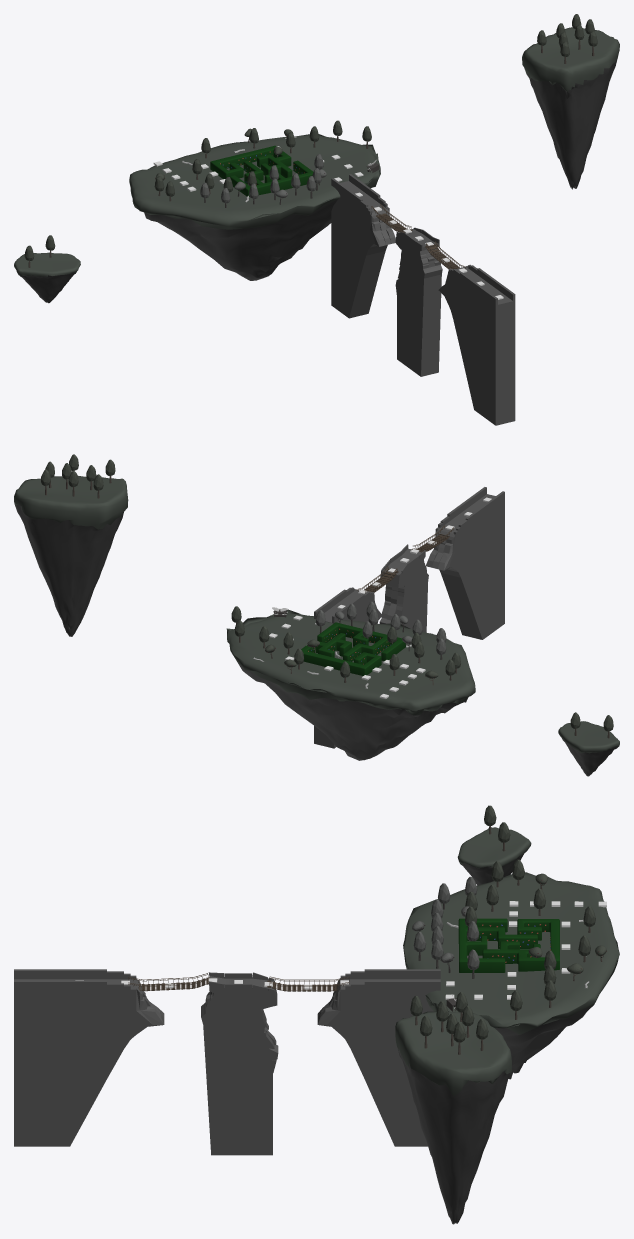
Rendered from BoardSect2.fbx.
3 renders of one model, top to bottom at view 1: azimuth 30°, elevation 25°; view 2: azimuth 150°, elevation 25°; view 3: azimuth 270°, elevation 25°, orthographic. The views are drawn at different scales.
Visible parts, largest first — view 1: pasted__pPlane3, pCube70, pCube69, Island3, pCube71, pasted__pasted__Island3, pasted__pasted__pasted__pPlane6, Cube, pasted__pasted__pasted__pPlane2, pasted__pasted__Island2; view 2: pasted__pPlane3, pCube70, pasted__pasted__Island3, Island3, pasted__pasted__pasted__pPlane6, Cube, pCube71, pCube69, pasted__pasted__pasted__pPlane2, pasted__pasted__Island2; view 3: pCube70, pasted__pPlane3, pCube71, pCube69, pasted__pasted__Island3, pasted__pasted__pasted__pPlane6, Cube, pasted__pasted__pasted__pPlane2, Island3, pasted__pasted__Island2.
Part boxes in pixels (<box>): pasted__pPlane3: <box>129,134,380,229</box>; pCube70: <box>438,264,515,425</box>; pCube69: <box>331,174,395,318</box>; Island3: <box>144,200,337,280</box>; pCube71: <box>395,227,442,376</box>; pasted__pasted__Island3: <box>526,57,617,189</box>; pasted__pasted__pasted__pPlane6: <box>522,27,619,91</box>; Cube: <box>210,145,313,197</box>; pasted__pasted__pasted__pPlane2: <box>14,252,80,276</box>; pasted__pasted__Island2: <box>20,273,75,303</box>; pasted__pPlane3: <box>226,609,475,715</box>; pCube70: <box>426,487,504,639</box>; pasted__pasted__Island3: <box>15,505,123,636</box>; Island3: <box>237,661,467,760</box>; pasted__pasted__pasted__pPlane6: <box>14,476,128,529</box>; Cube: <box>301,622,405,675</box>; pCube71: <box>379,544,428,632</box>; pCube69: <box>314,587,382,748</box>; pasted__pasted__pasted__pPlane2: <box>558,721,619,753</box>; pasted__pasted__Island2: <box>560,736,617,776</box>; pCube70: <box>14,969,164,1146</box>; pasted__pPlane3: <box>403,872,619,1034</box>; pCube71: <box>201,972,278,1155</box>; pCube69: <box>317,969,440,1146</box>; pasted__pasted__Island3: <box>397,1047,509,1224</box>; pasted__pasted__pasted__pPlane6: <box>395,1011,511,1096</box>; Cube: <box>458,918,559,972</box>; pasted__pasted__pasted__pPlane2: <box>457,827,531,868</box>; Island3: <box>495,1005,593,1079</box>; pasted__pasted__Island2: <box>461,851,526,885</box>.
Size of the model in its own units: 2013 by 730 by 1385.
